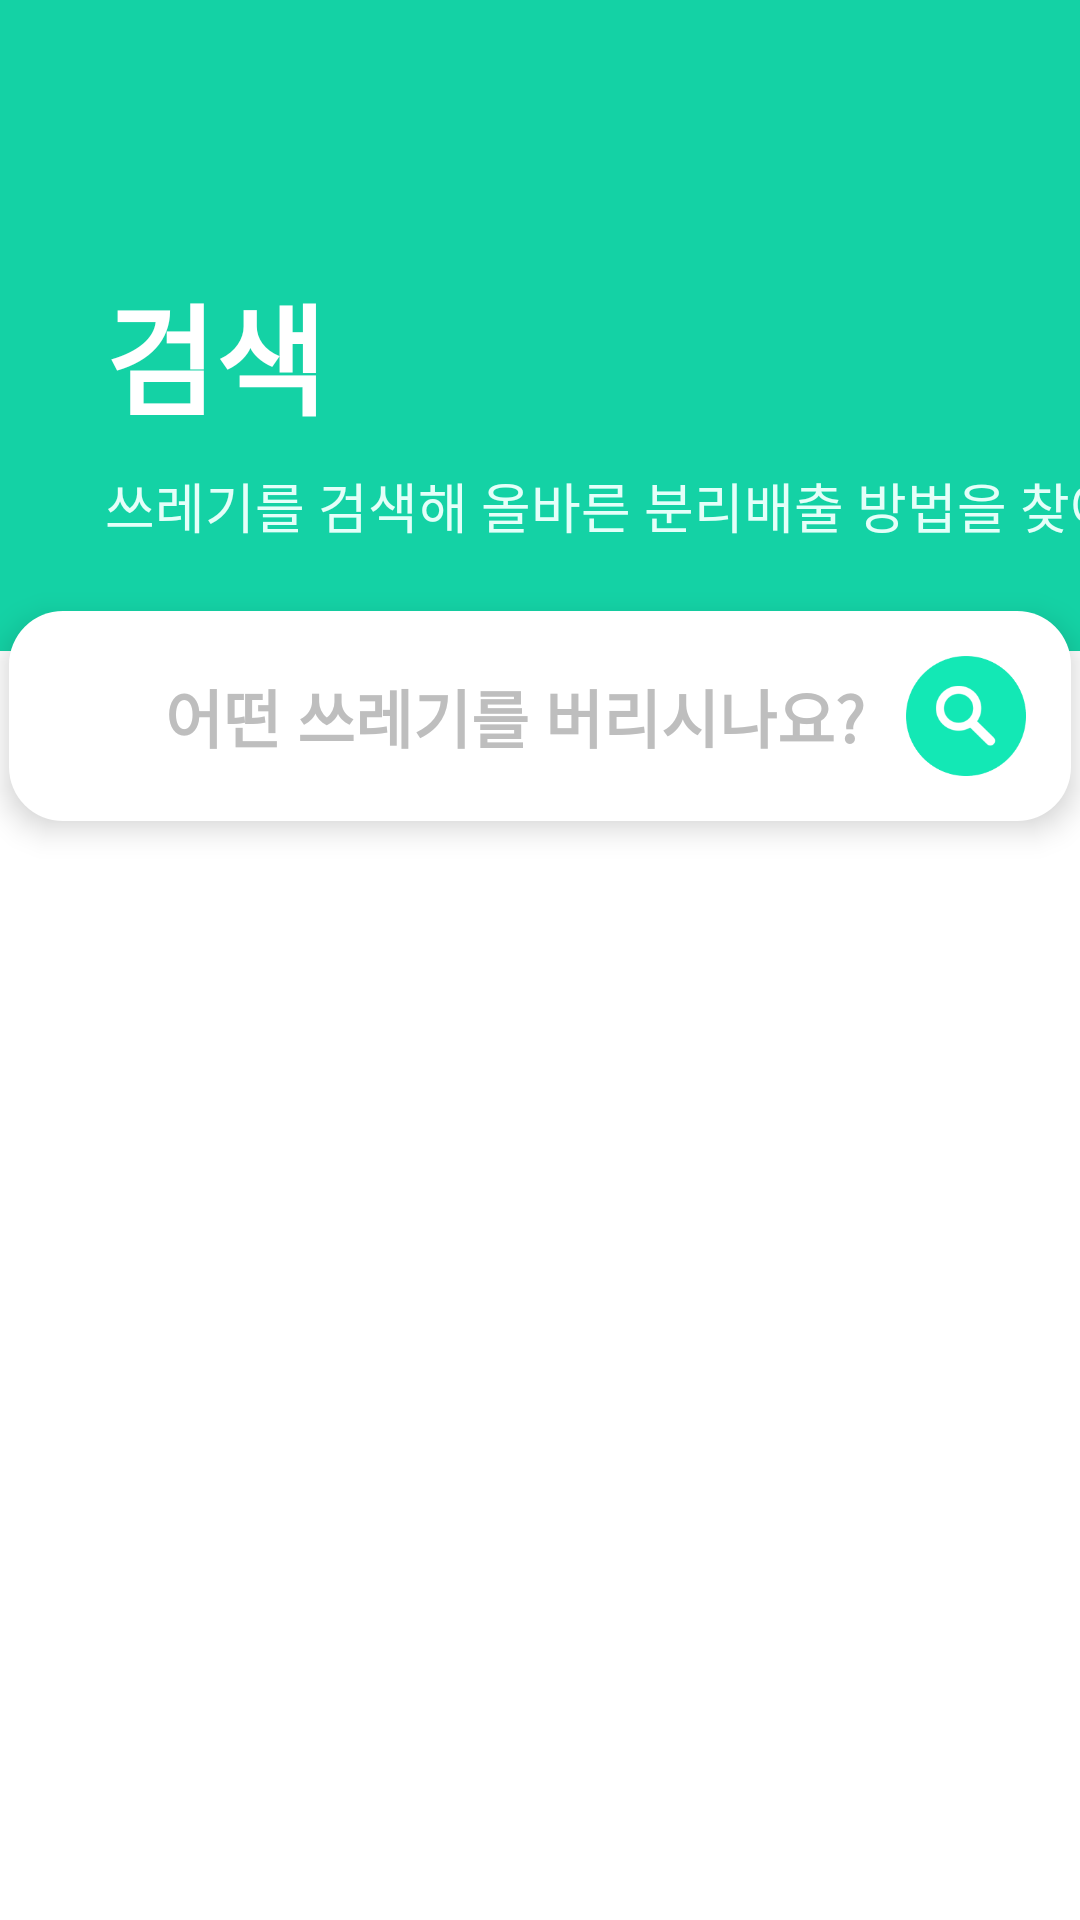

Where icons sit on this 1080px×1920px app screen, as (x1, y1, x2, y2):
search: (906, 656, 1026, 776)
